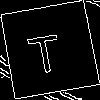T: (24, 25, 63, 76)
